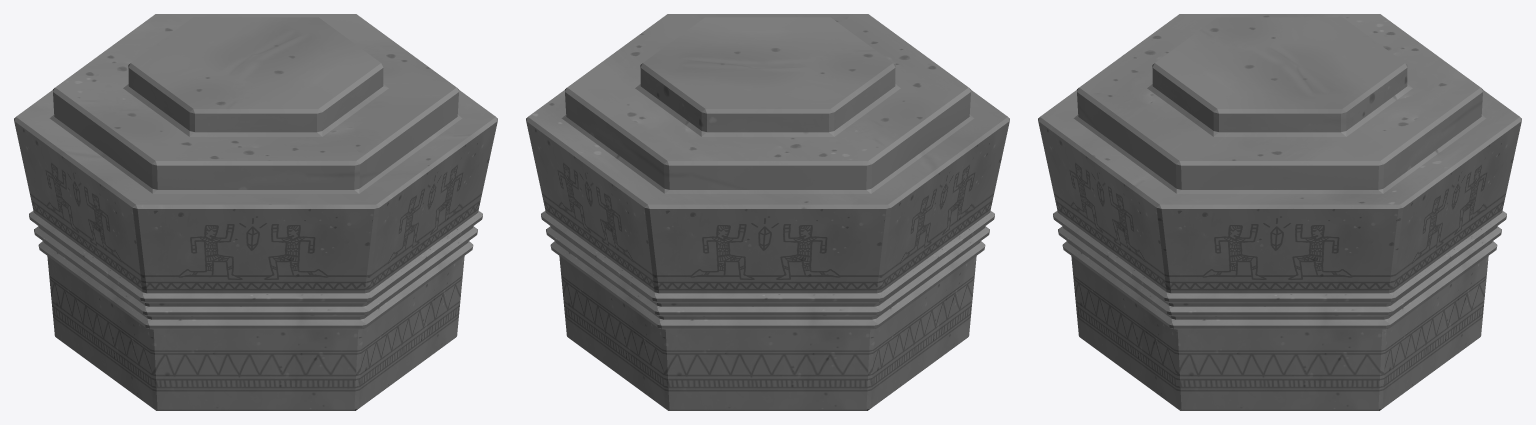
The model's file is magara_masa.fbx.
3 views of the same model, side by side, from view 1: azimuth 30°, elevation 25°; view 2: azimuth 150°, elevation 25°; view 3: azimuth 270°, elevation 25° (orthographic).
Visible parts, largest first — view 1: Magara_masa; view 2: Magara_masa; view 3: Magara_masa.
Boxes of the visible parts, x1,y1,x2,y2 form: Magara_masa: [14, 14, 497, 410]; Magara_masa: [526, 14, 1009, 410]; Magara_masa: [1038, 14, 1521, 410].
Bounding box in the file's own units: 1.04 × 0.7494 × 1.19.
